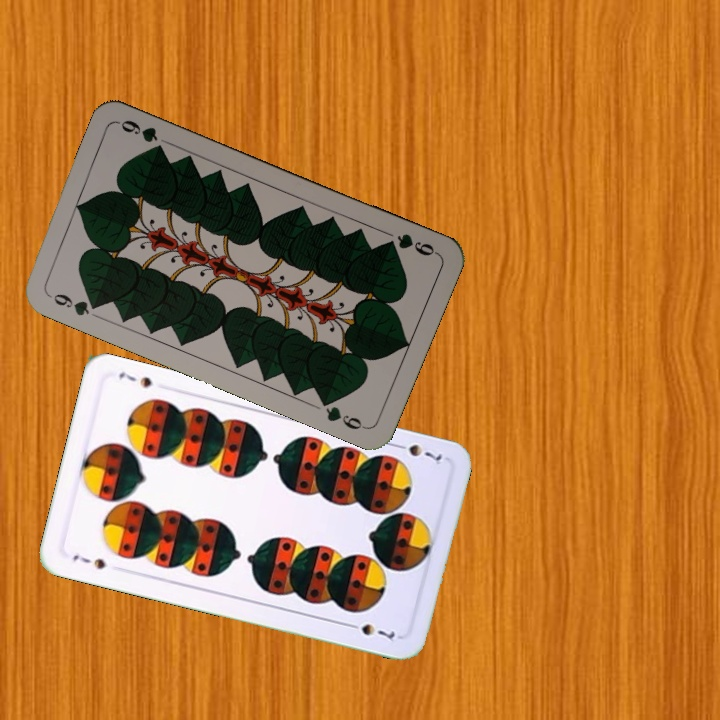G9: (44, 289, 104, 321), (380, 229, 440, 259)
S7: (389, 439, 445, 468), (69, 550, 108, 572)
